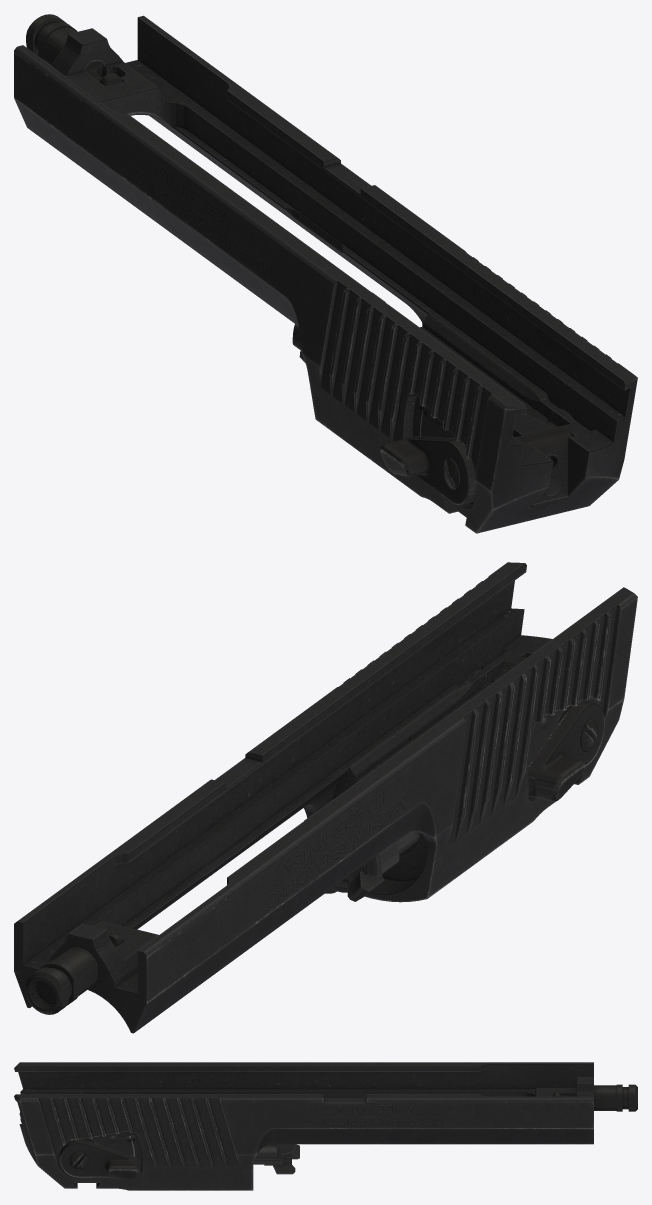
3 views of the same model, one above another, from view 1: azimuth 30°, elevation 25°; view 2: azimuth 150°, elevation 25°; view 3: azimuth 270°, elevation 25° (orthographic). The views are drawn at different scales.
Visible parts, largest first — view 1: TW_668fe60b56984d93550462c6_PZ_Import; view 2: TW_668fe60b56984d93550462c6_PZ_Import; view 3: TW_668fe60b56984d93550462c6_PZ_Import.
Part boxes in pixels (x1,y1,x2,y2): TW_668fe60b56984d93550462c6_PZ_Import: [14, 14, 637, 533]; TW_668fe60b56984d93550462c6_PZ_Import: [14, 562, 637, 1033]; TW_668fe60b56984d93550462c6_PZ_Import: [14, 1062, 637, 1190].
Size of the model in its own units: 0.0262 by 0.1327 by 0.024.
Materials: 1 (1 with a texture image).
